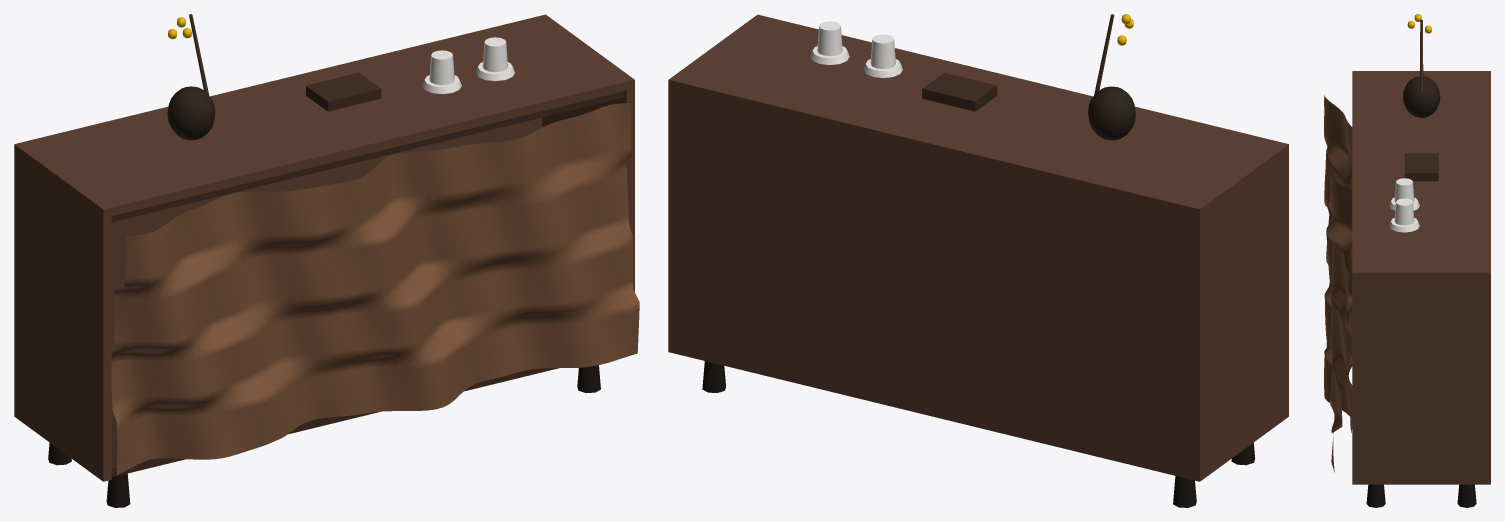
The model's file is vika-sideboard.glb.
The picture shows the model from 3 angles, left to right: view 1: azimuth 30°, elevation 25°; view 2: azimuth 150°, elevation 25°; view 3: azimuth 270°, elevation 25°; orthographic projection. The views are drawn at different scales.
Visible parts, largest first — view 1: VikaModernSideboard; view 2: VikaModernSideboard; view 3: VikaModernSideboard.
Part boxes in pixels (x1,y1,x2,y2): VikaModernSideboard: [14, 14, 639, 507]; VikaModernSideboard: [668, 14, 1288, 507]; VikaModernSideboard: [1324, 14, 1490, 507].
Size of the model in its own units: 1.4 by 1.11 by 0.4885.
